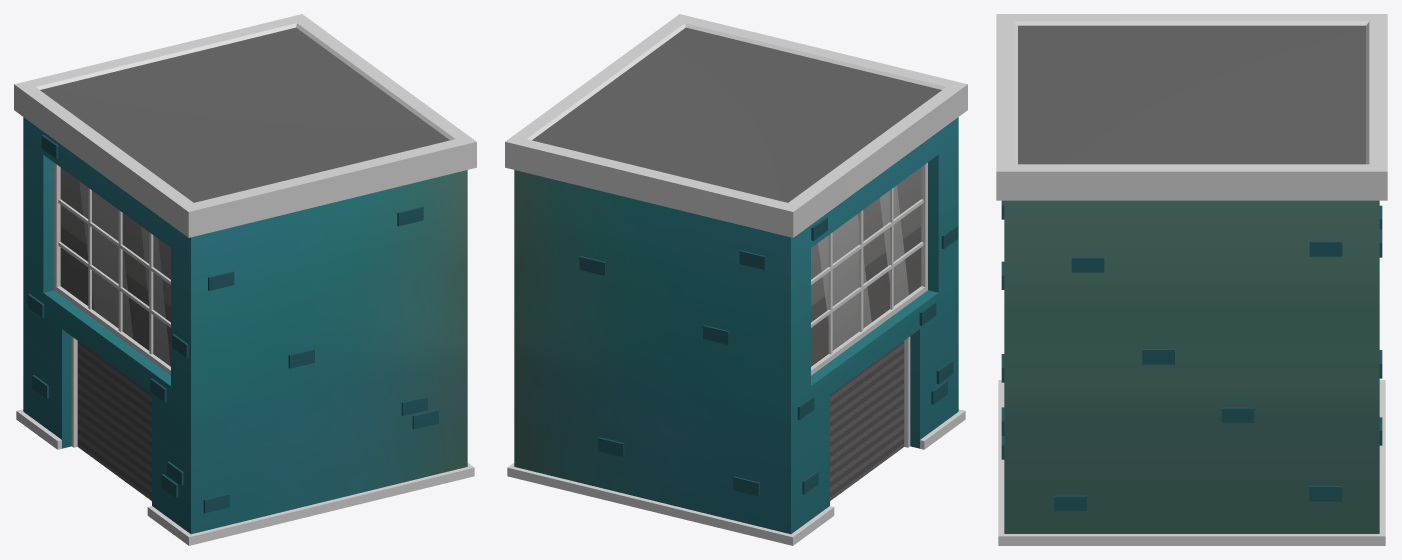
Rendered from Building_10_A.fbx.
3 views of the same model, side by side, from view 1: azimuth 30°, elevation 25°; view 2: azimuth 150°, elevation 25°; view 3: azimuth 270°, elevation 25° (orthographic). The views are drawn at different scales.
Visible parts, largest first — view 1: Building_10_A; view 2: Building_10_A; view 3: Building_10_A.
Part boxes in pixels (x1,y1,x2,y2): Building_10_A: (14,14,476,545); Building_10_A: (505,14,967,545); Building_10_A: (996,14,1387,545).
Bounding box in the file's own units: 701 × 779 × 736.
